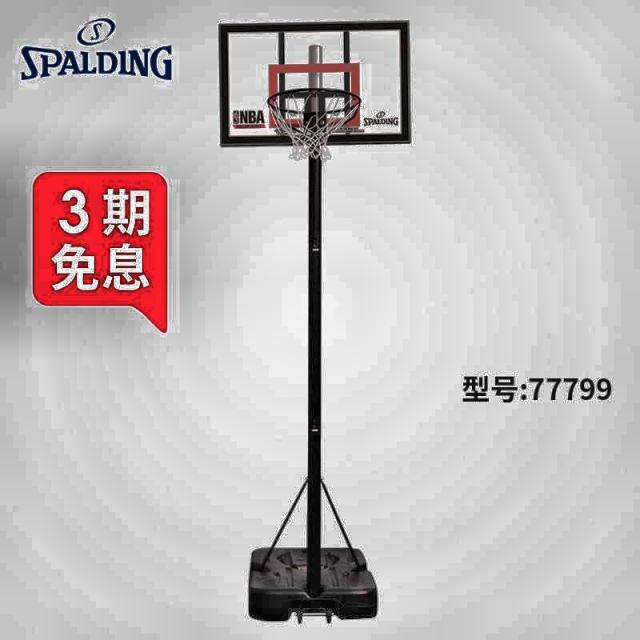rim: (269, 88, 362, 159)
